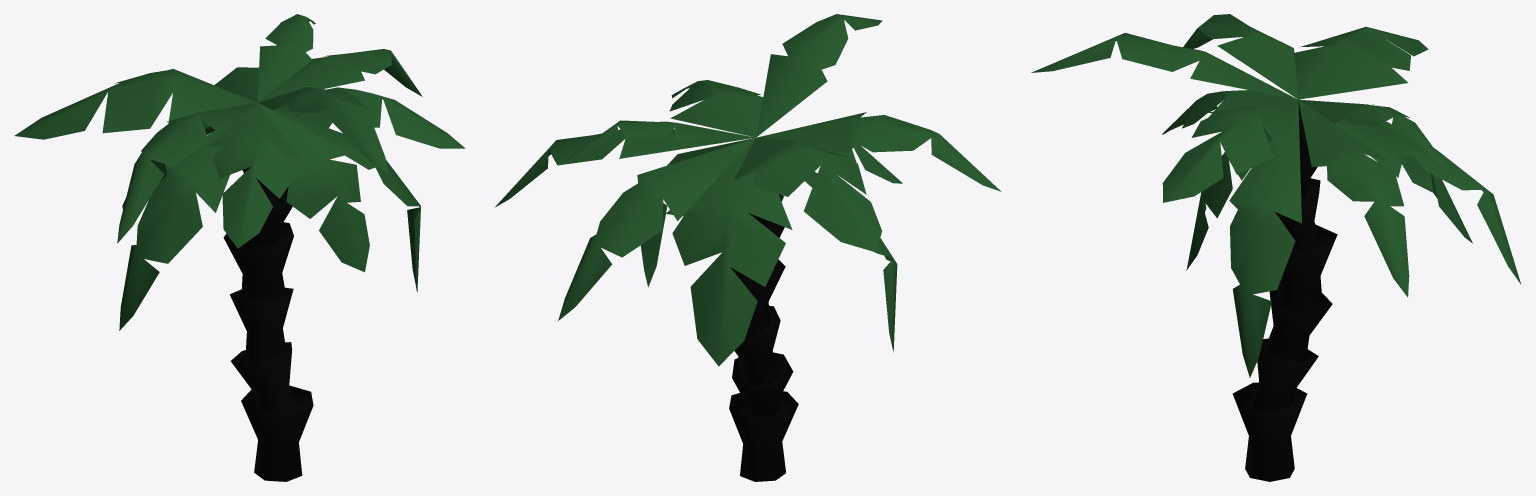
File: PalmTreeStraight.fbx
3 renders of one model, left to right at view 1: azimuth 30°, elevation 25°; view 2: azimuth 150°, elevation 25°; view 3: azimuth 270°, elevation 25°, orthographic. The views are drawn at different scales.
Visible parts, largest first — view 1: LeafJagged155, PalmTreeStraight; view 2: LeafJagged155, PalmTreeStraight; view 3: LeafJagged155, PalmTreeStraight.
Part boxes in pixels (x1,y1,x2,y2): LeafJagged155: (14,14,465,330); PalmTreeStraight: (223,167,313,481); LeafJagged155: (495,14,1001,366); PalmTreeStraight: (729,213,798,481); LeafJagged155: (1031,14,1521,377); PalmTreeStraight: (1232,100,1337,481).
Bounding box in the file's own units: 15.7 × 15.21 × 15.69.
